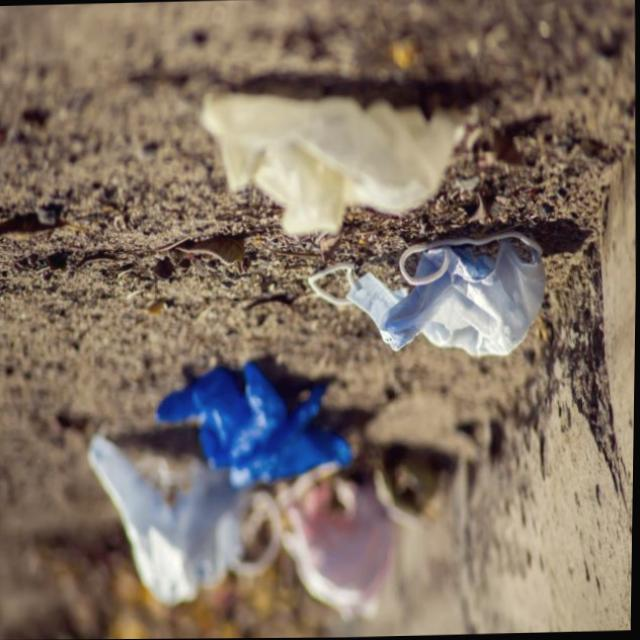Mask: (85, 426, 288, 612), (304, 230, 548, 366)
Paper: (196, 85, 470, 239)
